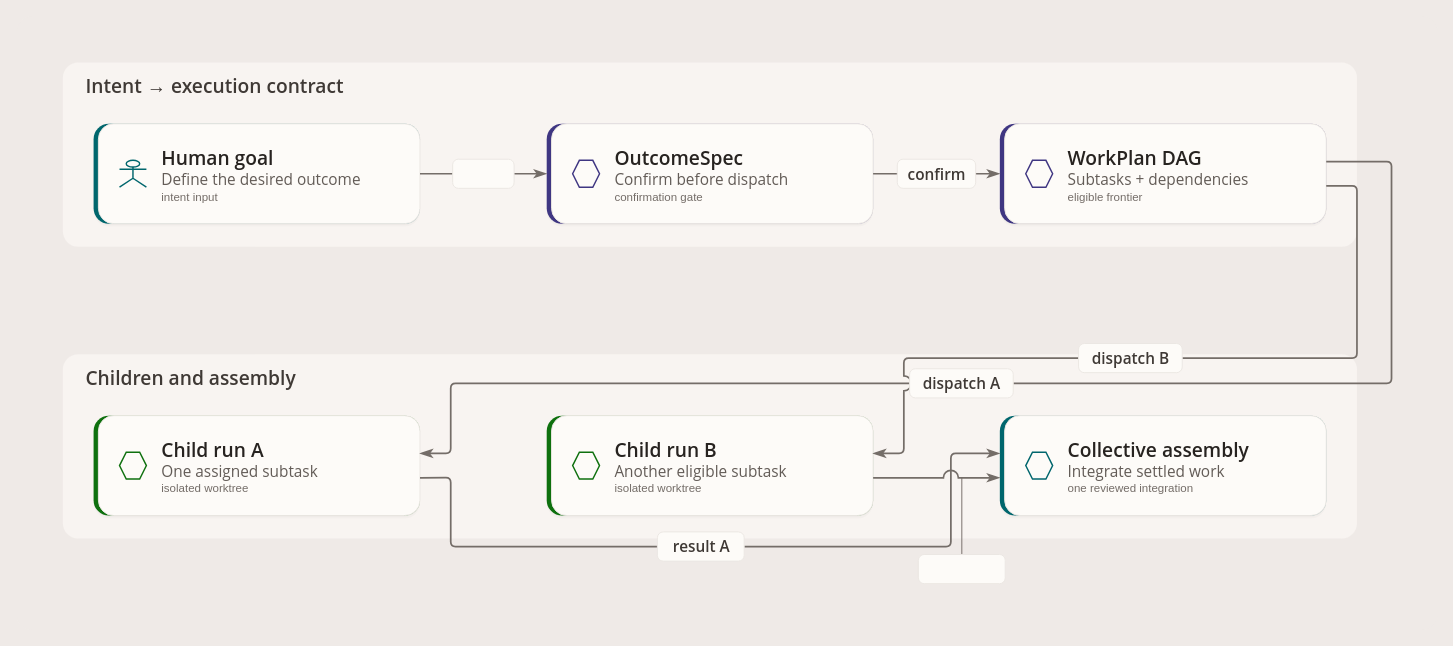
This 1453x646 diagram has some shape labels left out. Each missing label, with the centre of its shape:
draft: pixel 483 173
result B: pixel 961 569
